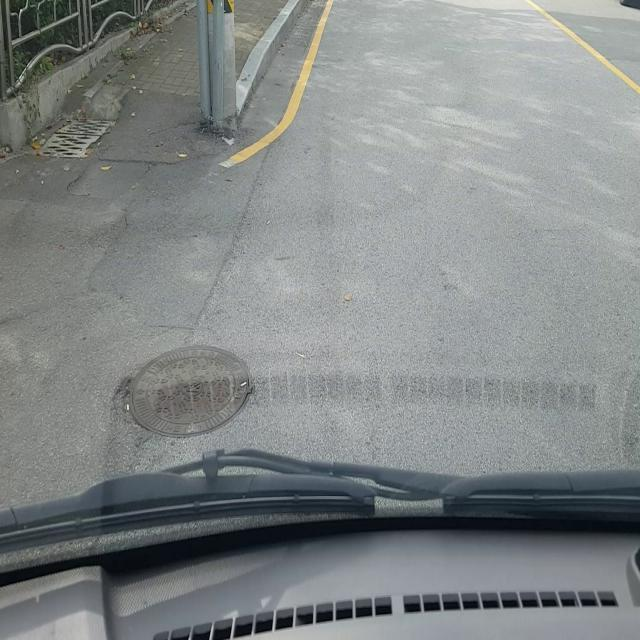pothole: (113, 343, 257, 438)
